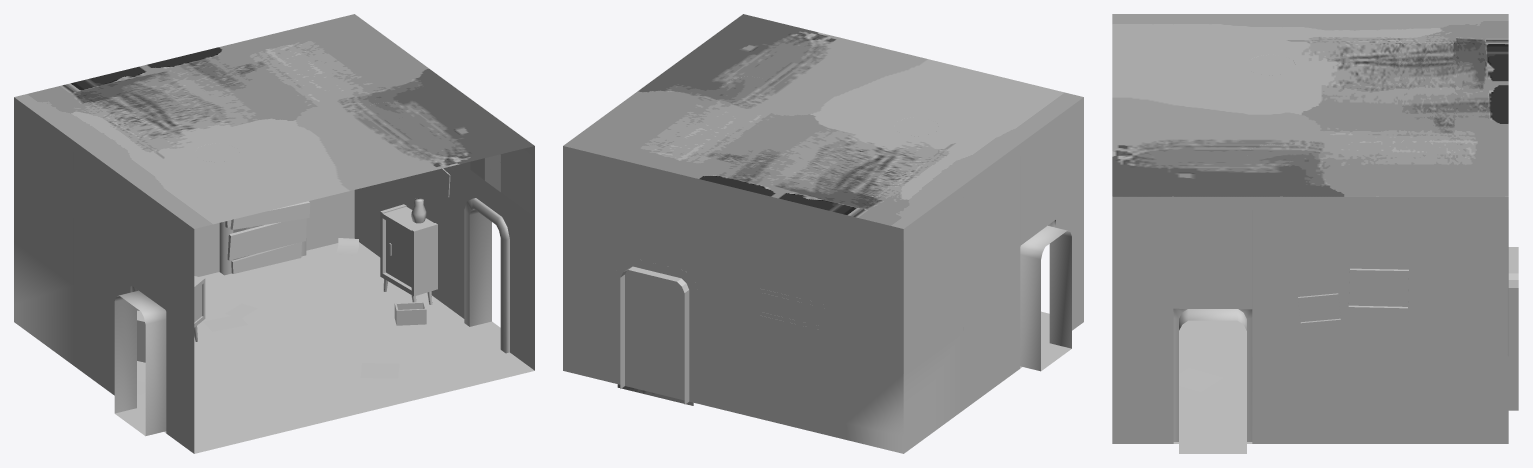
File: MSH_QuestIndustrial_L4_R1_optimized.fbx
The picture shows the model from 3 angles, left to right: view 1: azimuth 30°, elevation 25°; view 2: azimuth 150°, elevation 25°; view 3: azimuth 270°, elevation 25°; orthographic projection. The views are drawn at different scales.
Visible parts, largest first — view 1: lightmap1, lightmap0, MSH_QuestIndustrial_L4_R1_decals_02, MSH_QuestIndustrial_L4_R1_decals_01; view 2: lightmap1, lightmap0; view 3: lightmap1, lightmap0, MSH_QuestIndustrial_L4_R1_decals_01.
Boxes of the visible parts, x1,y1,x2,y2 form: lightmap1: (14, 14, 534, 453); lightmap0: (114, 107, 509, 436); MSH_QuestIndustrial_L4_R1_decals_02: (448, 149, 531, 214); MSH_QuestIndustrial_L4_R1_decals_01: (137, 238, 399, 394); lightmap1: (563, 14, 1083, 453); lightmap0: (617, 77, 1071, 405); lightmap1: (1112, 14, 1508, 443); lightmap0: (1173, 60, 1518, 453); MSH_QuestIndustrial_L4_R1_decals_01: (1179, 368, 1223, 391).
Size of the model in its own units: 10.3 by 5.97 by 8.74.
